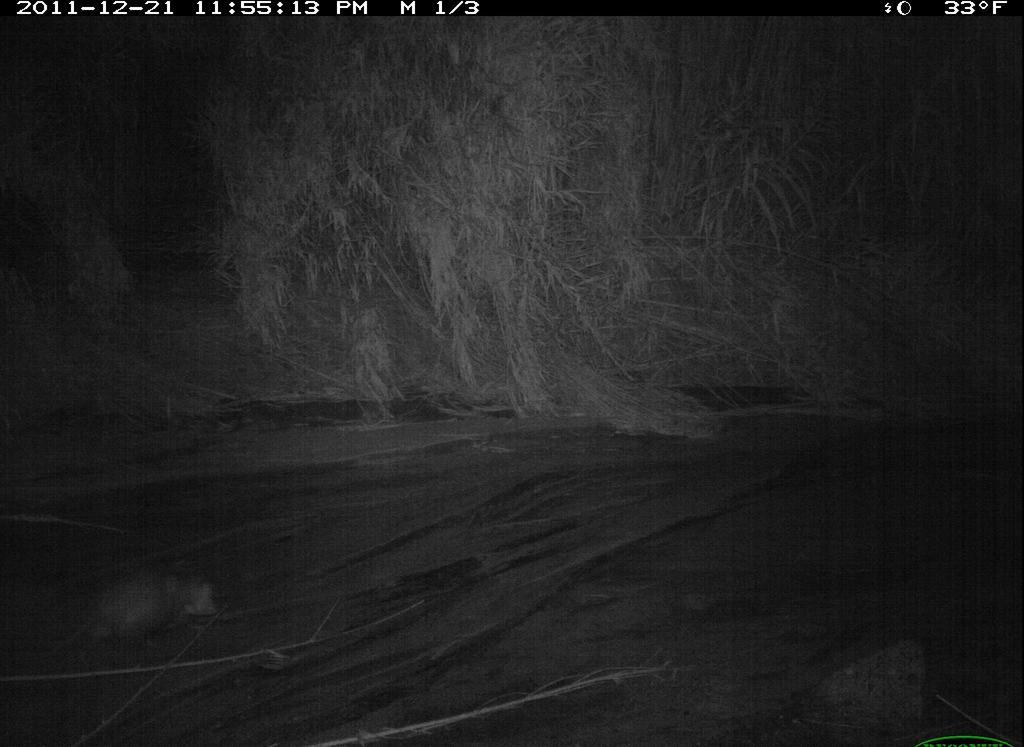opossum: (58, 552, 230, 662)
